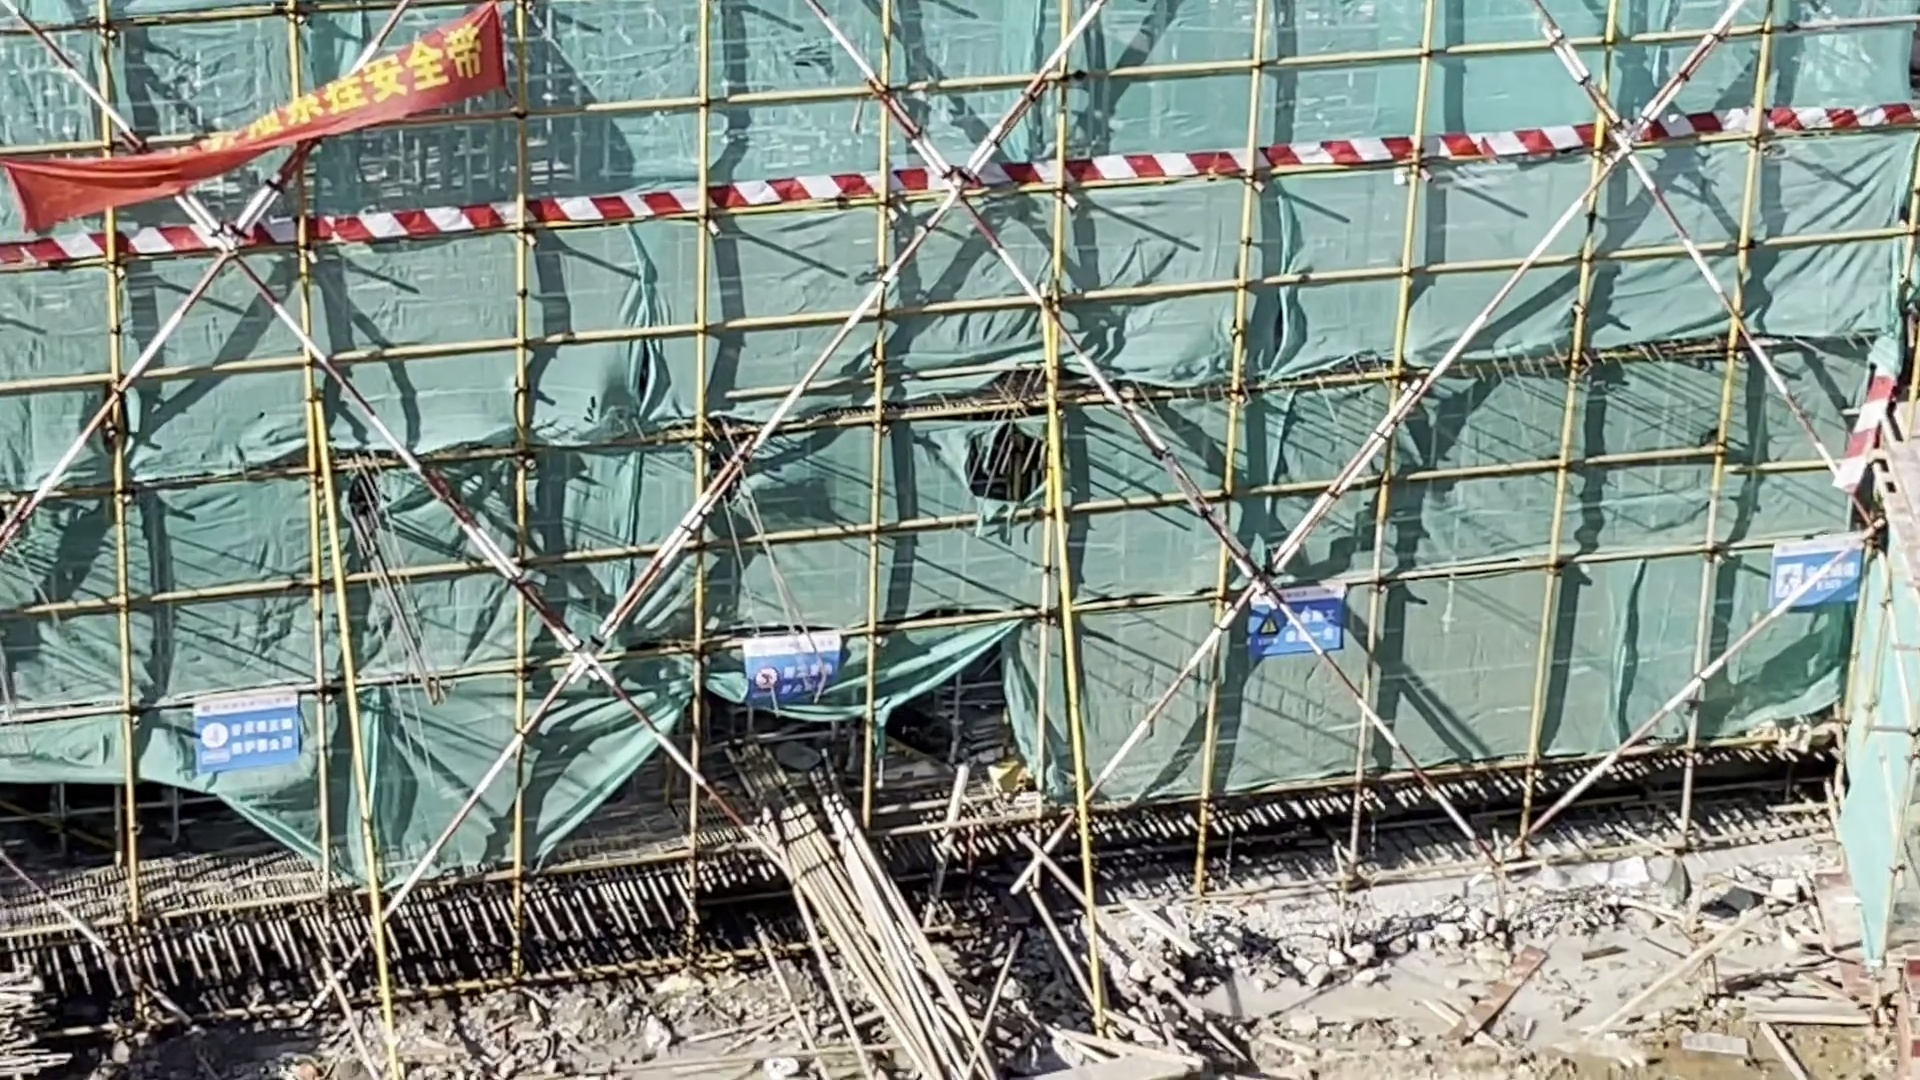slogan: (55, 32, 506, 207), (1775, 551, 1871, 609), (200, 709, 298, 764), (760, 653, 829, 705), (1263, 600, 1342, 646)
